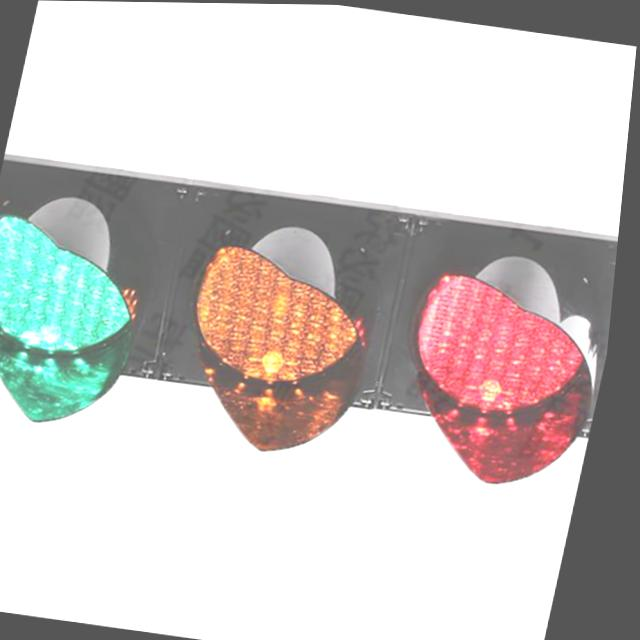Hijau: (0, 215, 156, 361)
Kuning: (189, 244, 381, 389)
Merah: (412, 264, 606, 419)
